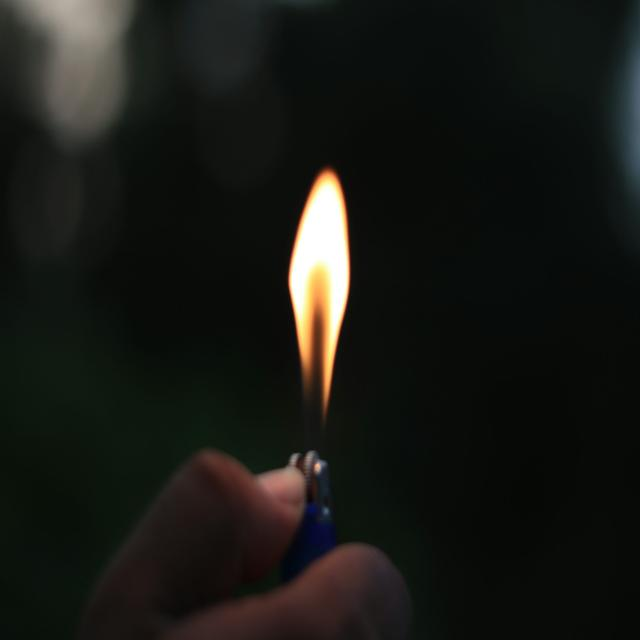fire: (289, 170, 350, 418)
